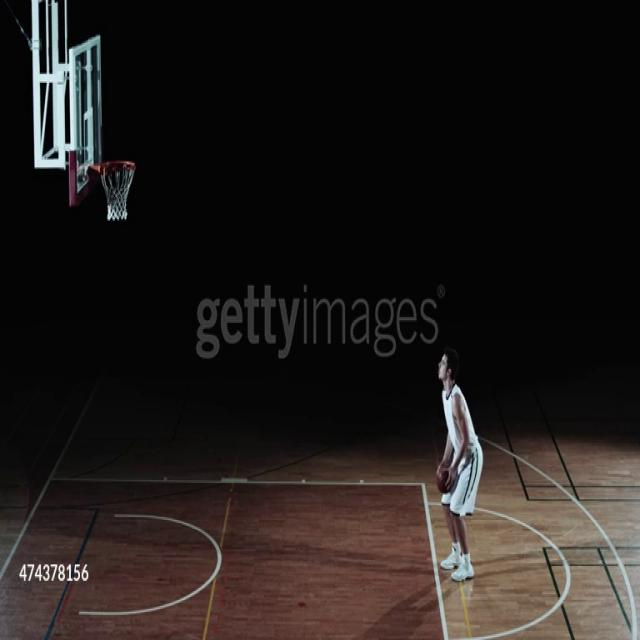ball: (438, 461, 457, 496)
